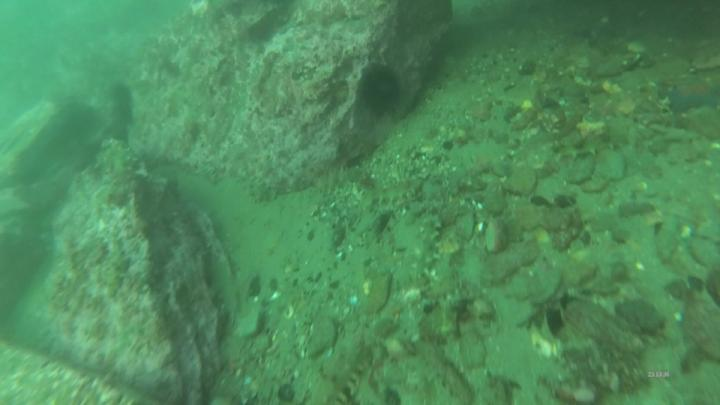holothurian: (311, 337, 369, 405), (424, 340, 476, 405), (408, 216, 440, 276)
starfish: (666, 72, 720, 117)
